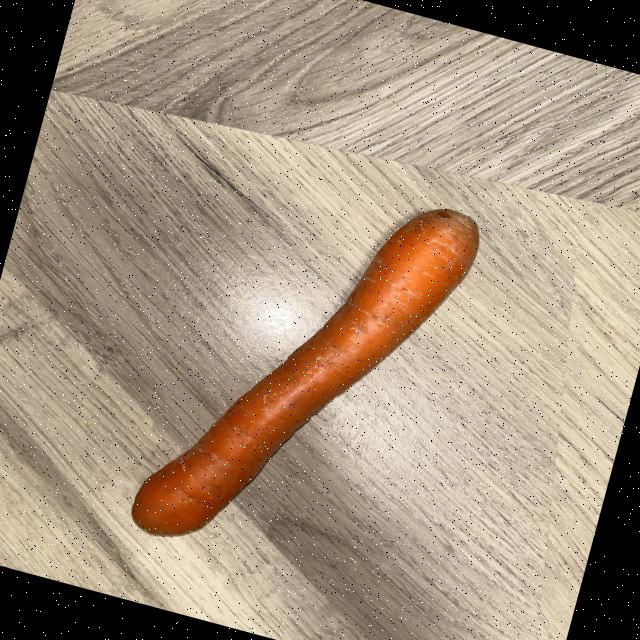carrot: (131, 209, 479, 535)
